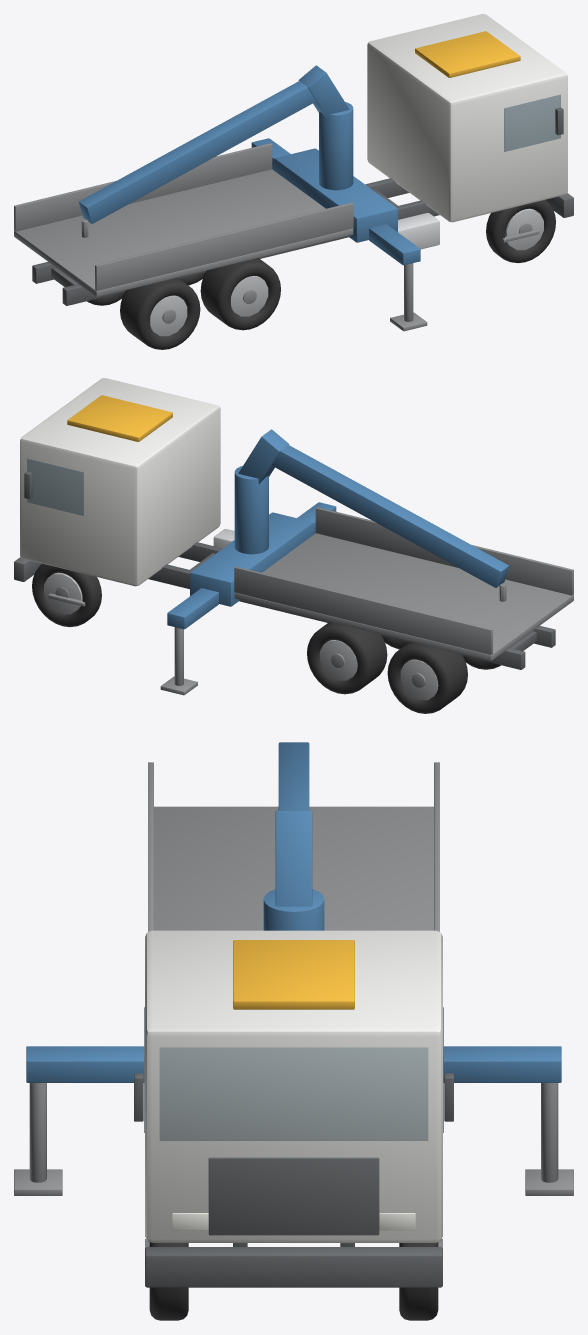
The model's file is EQP-ELV-004.glb.
3 views of the same model, one above another, from view 1: azimuth 30°, elevation 25°; view 2: azimuth 150°, elevation 25°; view 3: azimuth 270°, elevation 25° (orthographic). The views are drawn at different scales.
Parts seen in each view (by area): view 1: EQP-ELV-004_cab, EQP-ELV-004_carroceria, EQP-ELV-004_guarda-1, EQP-ELV-004_lanca2, EQP-ELV-004_guarda1, EQP-ELV-004_base_munck, EQP-ELV-004_roda2_pneu, EQP-ELV-004_roda4_pneu, EQP-ELV-004_luzes, EQP-ELV-004_coluna, EQP-ELV-004_janela-1, EQP-ELV-004_roda0_pneu (+10 smaller); view 2: EQP-ELV-004_cab, EQP-ELV-004_carroceria, EQP-ELV-004_guarda1, EQP-ELV-004_lanca2, EQP-ELV-004_guarda-1, EQP-ELV-004_base_munck, EQP-ELV-004_roda3_pneu, EQP-ELV-004_roda5_pneu, EQP-ELV-004_luzes, EQP-ELV-004_coluna, EQP-ELV-004_janela1, EQP-ELV-004_roda1_pneu (+9 smaller); view 3: EQP-ELV-004_cab, EQP-ELV-004_carroceria, EQP-ELV-004_parabrisa, EQP-ELV-004_grade, EQP-ELV-004_parachoque, EQP-ELV-004_luzes, EQP-ELV-004_patola1, EQP-ELV-004_patola-1, EQP-ELV-004_lanca1, EQP-ELV-004_lanca2, EQP-ELV-004_coluna, EQP-ELV-004_macaco1 (+7 smaller).
Boxes of the visible parts, x1,y1,x2,y2 form: EQP-ELV-004_cab: [367, 14, 567, 222]; EQP-ELV-004_carroceria: [14, 169, 353, 296]; EQP-ELV-004_guarda-1: [95, 202, 353, 290]; EQP-ELV-004_lanca2: [79, 81, 316, 223]; EQP-ELV-004_guarda1: [14, 143, 272, 231]; EQP-ELV-004_base_munck: [274, 148, 397, 242]; EQP-ELV-004_roda2_pneu: [200, 258, 280, 330]; EQP-ELV-004_roda4_pneu: [120, 277, 200, 349]; EQP-ELV-004_luzes: [415, 31, 520, 77]; EQP-ELV-004_coluna: [319, 102, 353, 190]; EQP-ELV-004_janela-1: [504, 94, 560, 151]; EQP-ELV-004_roda0_pneu: [486, 199, 555, 263]; EQP-ELV-004_cab: [20, 378, 220, 586]; EQP-ELV-004_carroceria: [234, 533, 573, 660]; EQP-ELV-004_guarda1: [234, 566, 492, 654]; EQP-ELV-004_lanca2: [271, 445, 508, 587]; EQP-ELV-004_guarda-1: [315, 507, 573, 595]; EQP-ELV-004_base_munck: [190, 512, 313, 606]; EQP-ELV-004_roda3_pneu: [307, 622, 387, 694]; EQP-ELV-004_roda5_pneu: [387, 641, 467, 713]; EQP-ELV-004_luzes: [67, 395, 172, 441]; EQP-ELV-004_coluna: [234, 466, 268, 554]; EQP-ELV-004_janela1: [27, 458, 83, 515]; EQP-ELV-004_roda1_pneu: [32, 563, 101, 627]; EQP-ELV-004_cab: [145, 930, 442, 1242]; EQP-ELV-004_carroceria: [154, 806, 433, 930]; EQP-ELV-004_parabrisa: [159, 1047, 428, 1140]; EQP-ELV-004_grade: [208, 1157, 379, 1235]; EQP-ELV-004_parachoque: [145, 1247, 442, 1287]; EQP-ELV-004_luzes: [233, 940, 354, 1009]; EQP-ELV-004_patola1: [443, 1046, 561, 1082]; EQP-ELV-004_patola-1: [26, 1046, 144, 1082]; EQP-ELV-004_lanca1: [275, 810, 312, 906]; EQP-ELV-004_lanca2: [278, 742, 309, 810]; EQP-ELV-004_coluna: [263, 889, 324, 930]; EQP-ELV-004_macaco1: [541, 1083, 558, 1182].
Size of the model in its own units: 8.08 by 3.28 by 4.6.
